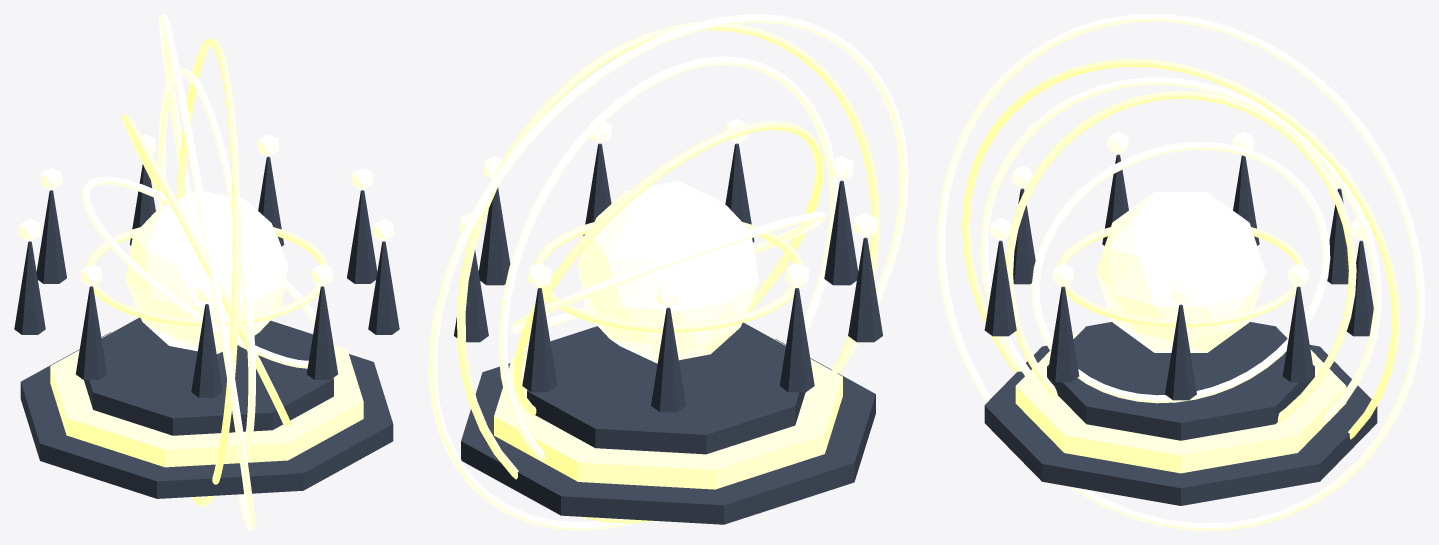
The model's file is gpu-blender-v10.glb.
3 renders of one model, left to right at view 1: azimuth 30°, elevation 25°; view 2: azimuth 150°, elevation 25°; view 3: azimuth 270°, elevation 25°, orthographic. The views are drawn at different scales.
Visible parts, largest first — view 1: Cylinder.002, Cylinder, SovereignCore_shodan-surface-sentinel, Cylinder.001, Torus.005, Torus.004, Torus.003, Torus.001, Torus.002, Torus, Cone.006, Cone.004 (+7 smaller); view 2: Cylinder.002, SovereignCore_shodan-surface-sentinel, Cylinder, Cylinder.001, Torus.005, Torus.004, Torus.003, Torus.002, Torus.001, Torus, Cone.003, Cone.005 (+7 smaller); view 3: SovereignCore_shodan-surface-sentinel, Cylinder.002, Cylinder, Cylinder.001, Torus.005, Torus.004, Torus.003, Torus.002, Torus.001, Torus, Cone, Cone.001 (+7 smaller).
Part boxes in pixels (x1,y1,x2,y2): Cylinder.002: (84,317,333,435); Cylinder: (20,332,393,498); SovereignCore_shodan-surface-sentinel: (125,191,288,353); Cylinder.001: (50,324,363,467); Torus.005: (159,14,254,530); Torus.004: (176,38,240,506); Torus.003: (158,68,255,459); Torus.001: (82,176,316,368); Torus.002: (122,114,290,426); Torus: (85,227,327,326); Cone.006: (191,304,222,397); Cone.004: (14,241,45,334); Cylinder.002: (527,322,805,454); SovereignCore_shodan-surface-sentinel: (578,181,758,363); Cylinder: (461,339,875,524); Cylinder.001: (494,330,842,489); Torus.005: (428,14,908,530); Torus.004: (457,22,879,523); Torus.003: (498,56,838,461); Torus.002: (513,121,823,415); Torus.001: (511,211,825,333); Torus: (533,222,803,332); Cone.003: (651,307,685,412); Cone.005: (848,237,882,342); SovereignCore_shodan-surface-sentinel: (1096,192,1265,352); Cylinder.002: (1047,322,1314,440); Cylinder: (984,345,1377,505); Cylinder.001: (1015,334,1346,473); Torus.005: (937,14,1424,530); Torus.004: (962,59,1399,439); Torus.003: (980,77,1381,423); Torus.002: (1006,90,1356,423); Torus.001: (1031,141,1330,403); Torus: (1057,227,1304,327); Cone: (1165,304,1196,400); Cone.001: (1282,286,1314,382).
Size of the model in its own units: 4.41 by 5.93 by 5.46.
